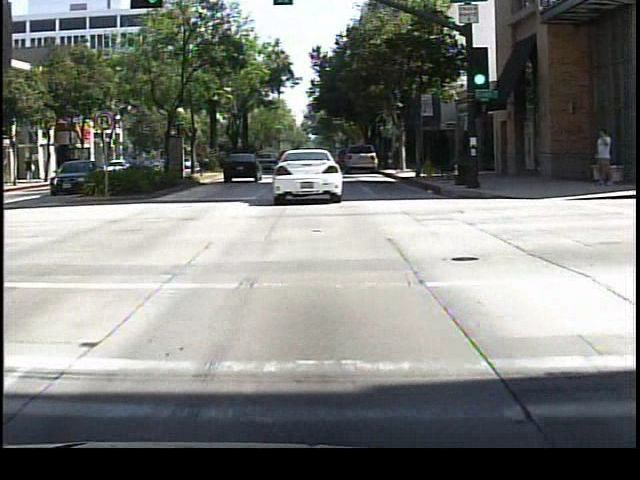person: (590, 124, 615, 191), (23, 151, 40, 186)
